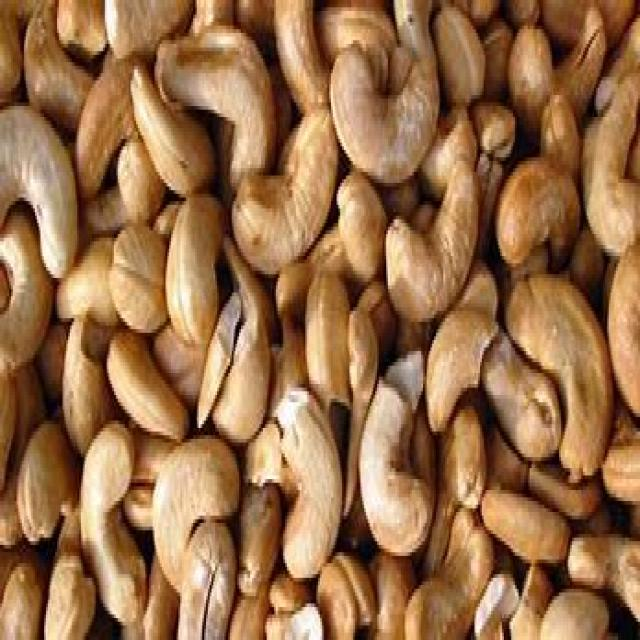cashew: (509, 258, 620, 448), (342, 31, 442, 176), (230, 159, 356, 258), (121, 62, 201, 204), (202, 13, 278, 159), (160, 195, 227, 353), (494, 161, 598, 260), (592, 71, 640, 269), (0, 113, 85, 223), (420, 311, 485, 437), (439, 16, 489, 102), (515, 25, 552, 127)
